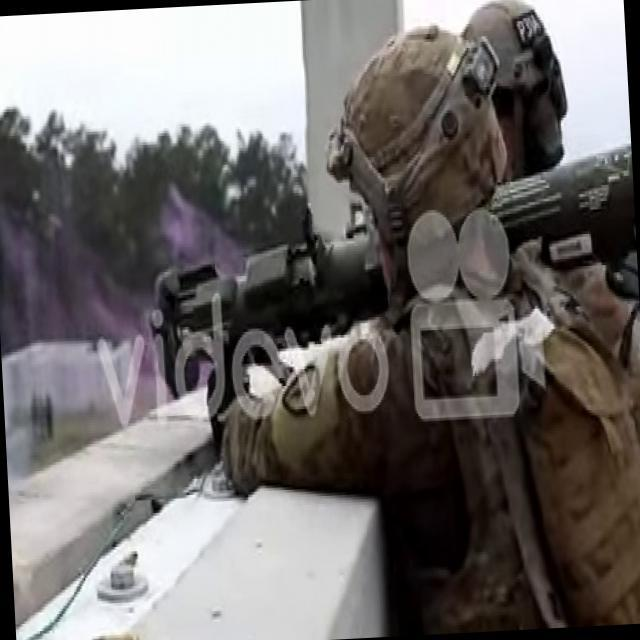rocket: (156, 154, 640, 389)
